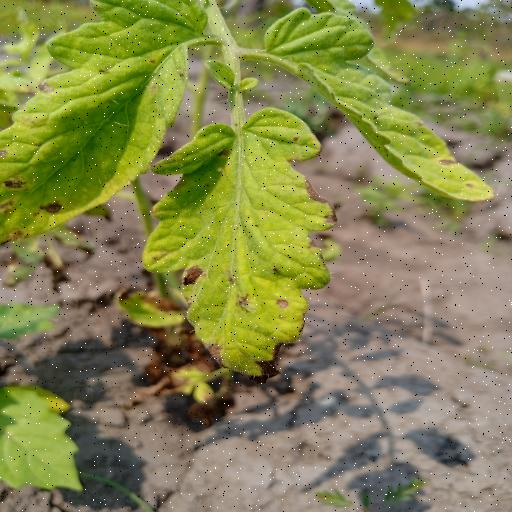Tomato_Brown_Spots: (140, 104, 338, 378), (0, 0, 217, 247), (258, 6, 500, 201)
